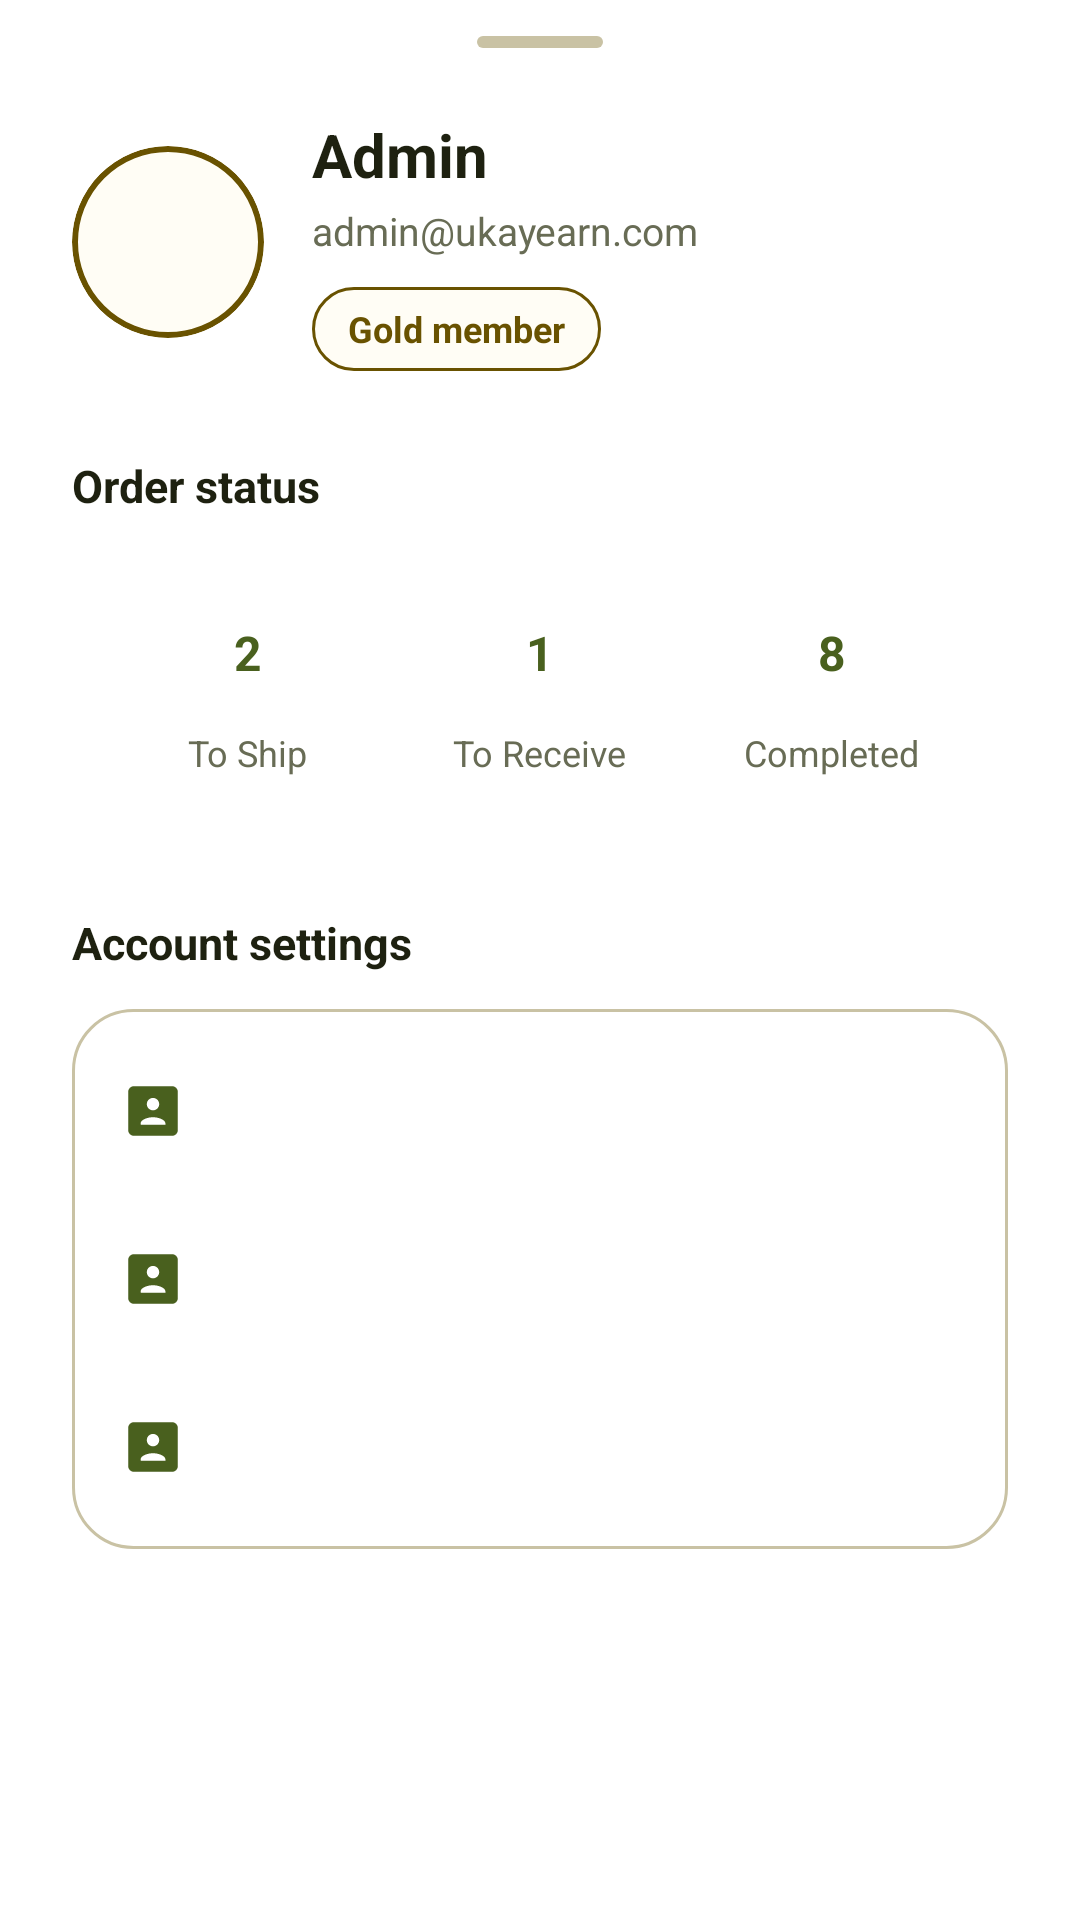

Named icons in this screenshot (1080 × 1920) and their bounding boxes, (x1=x1, y1=y1, x2=x2, y2=y2):
profile setting: (x1=128, y1=1086, x2=178, y2=1136), (x1=128, y1=1254, x2=178, y2=1304), (x1=128, y1=1422, x2=178, y2=1472)
